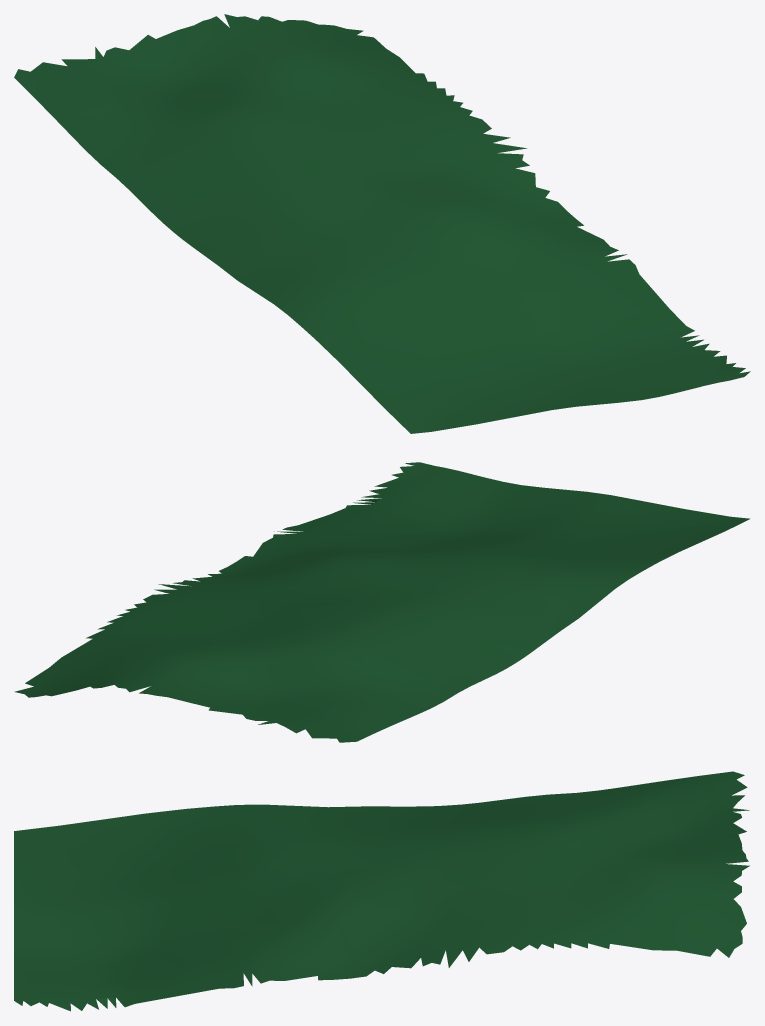
File: payo_land_x4_y2_lod1.glb
3 views of the same model, one above another, from view 1: azimuth 30°, elevation 25°; view 2: azimuth 150°, elevation 25°; view 3: azimuth 270°, elevation 25° (orthographic). The views are drawn at different scales.
Parts seen in each view (by area): view 1: payo_land_x4_y2; view 2: payo_land_x4_y2; view 3: payo_land_x4_y2.
Boxes of the visible parts, x1=… form: payo_land_x4_y2: x1=14, y1=14, x2=750, y2=433; payo_land_x4_y2: x1=14, y1=462, x2=750, y2=742; payo_land_x4_y2: x1=14, y1=771, x2=749, y2=1011.
Bounding box in the file's own units: 132 × 34.89 × 260.
